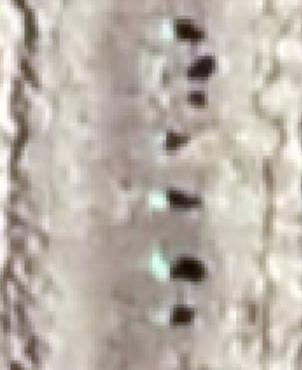cotton: (153, 247, 167, 274), (152, 189, 166, 207), (162, 20, 175, 36), (156, 61, 165, 81), (158, 129, 167, 147), (156, 308, 168, 321)
